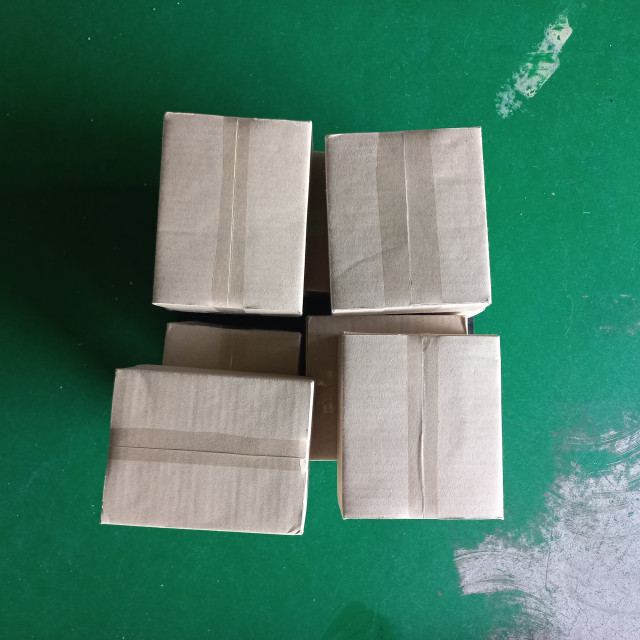box: (98, 361, 316, 538), (97, 362, 316, 537), (149, 110, 313, 318), (151, 111, 313, 318), (322, 122, 493, 316), (336, 328, 505, 523), (324, 124, 492, 314), (337, 332, 505, 521)
